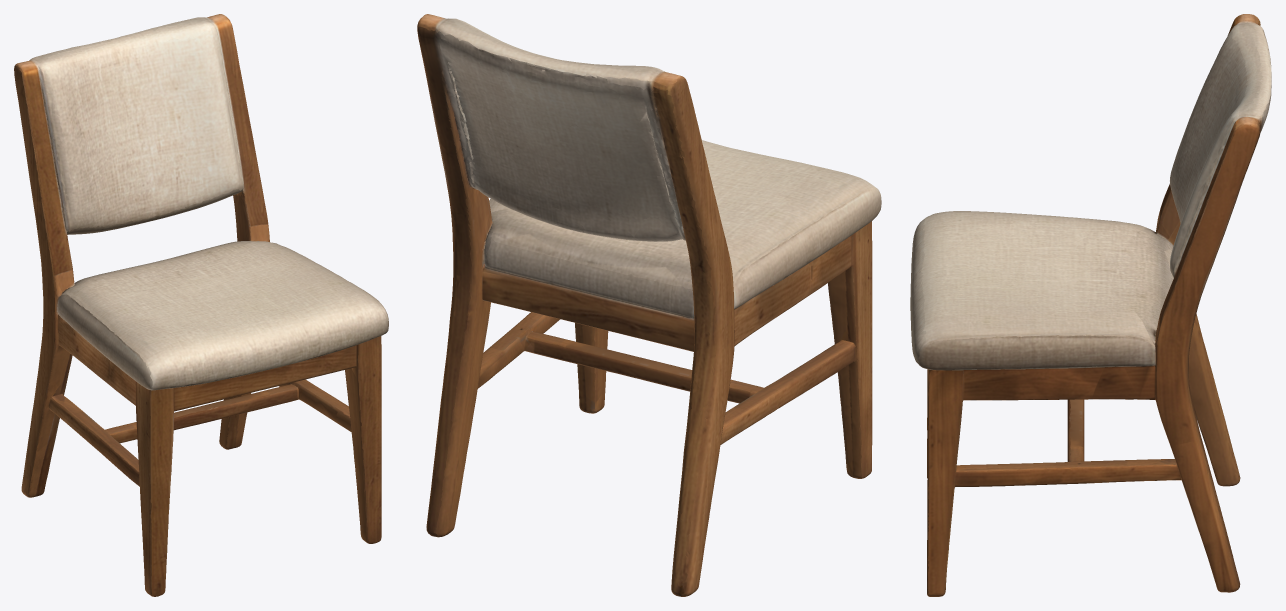
File: dining-chair.glb
The picture shows the model from 3 angles, left to right: view 1: azimuth 30°, elevation 25°; view 2: azimuth 150°, elevation 25°; view 3: azimuth 270°, elevation 25°; orthographic projection. The views are drawn at different scales.
Parts seen in each view (by area): view 1: geometry_0; view 2: geometry_0; view 3: geometry_0.
Boxes of the visible parts, <box> form: geometry_0: <box>14,14,388,596</box>; geometry_0: <box>417,14,881,596</box>; geometry_0: <box>910,14,1271,596</box>.
Size of the model in its own units: 0.5112 by 0.8499 by 0.5933.
Materials: 1 (1 with a texture image).
